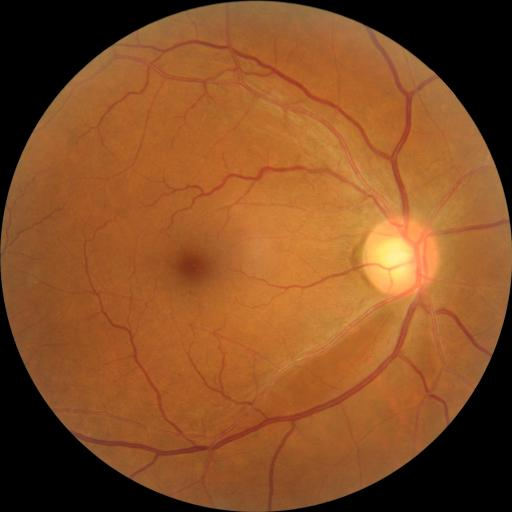Optic Cup: (377, 236, 419, 284)
Optic Disc: (362, 216, 439, 298)
